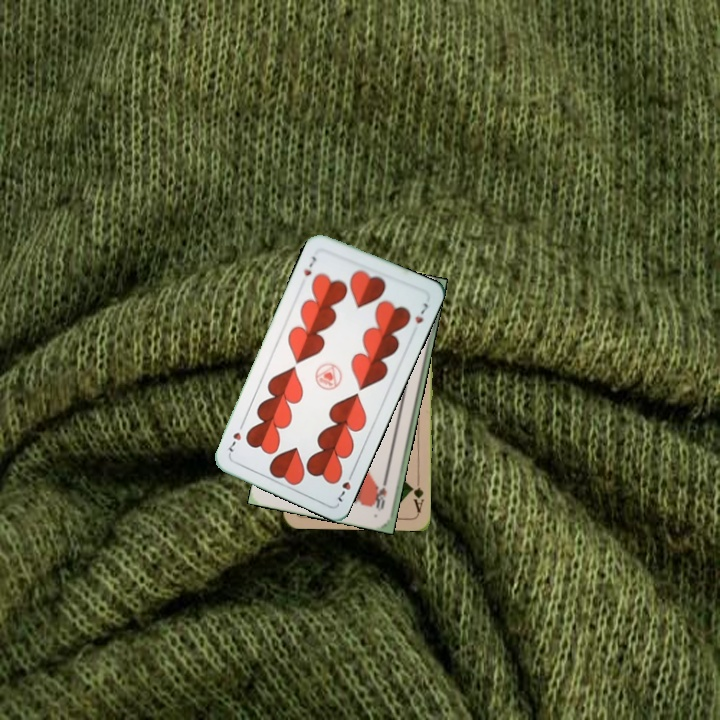GA: (407, 474, 426, 515)
H7: (334, 467, 356, 504), (299, 252, 319, 279)
HO: (374, 474, 390, 512)
